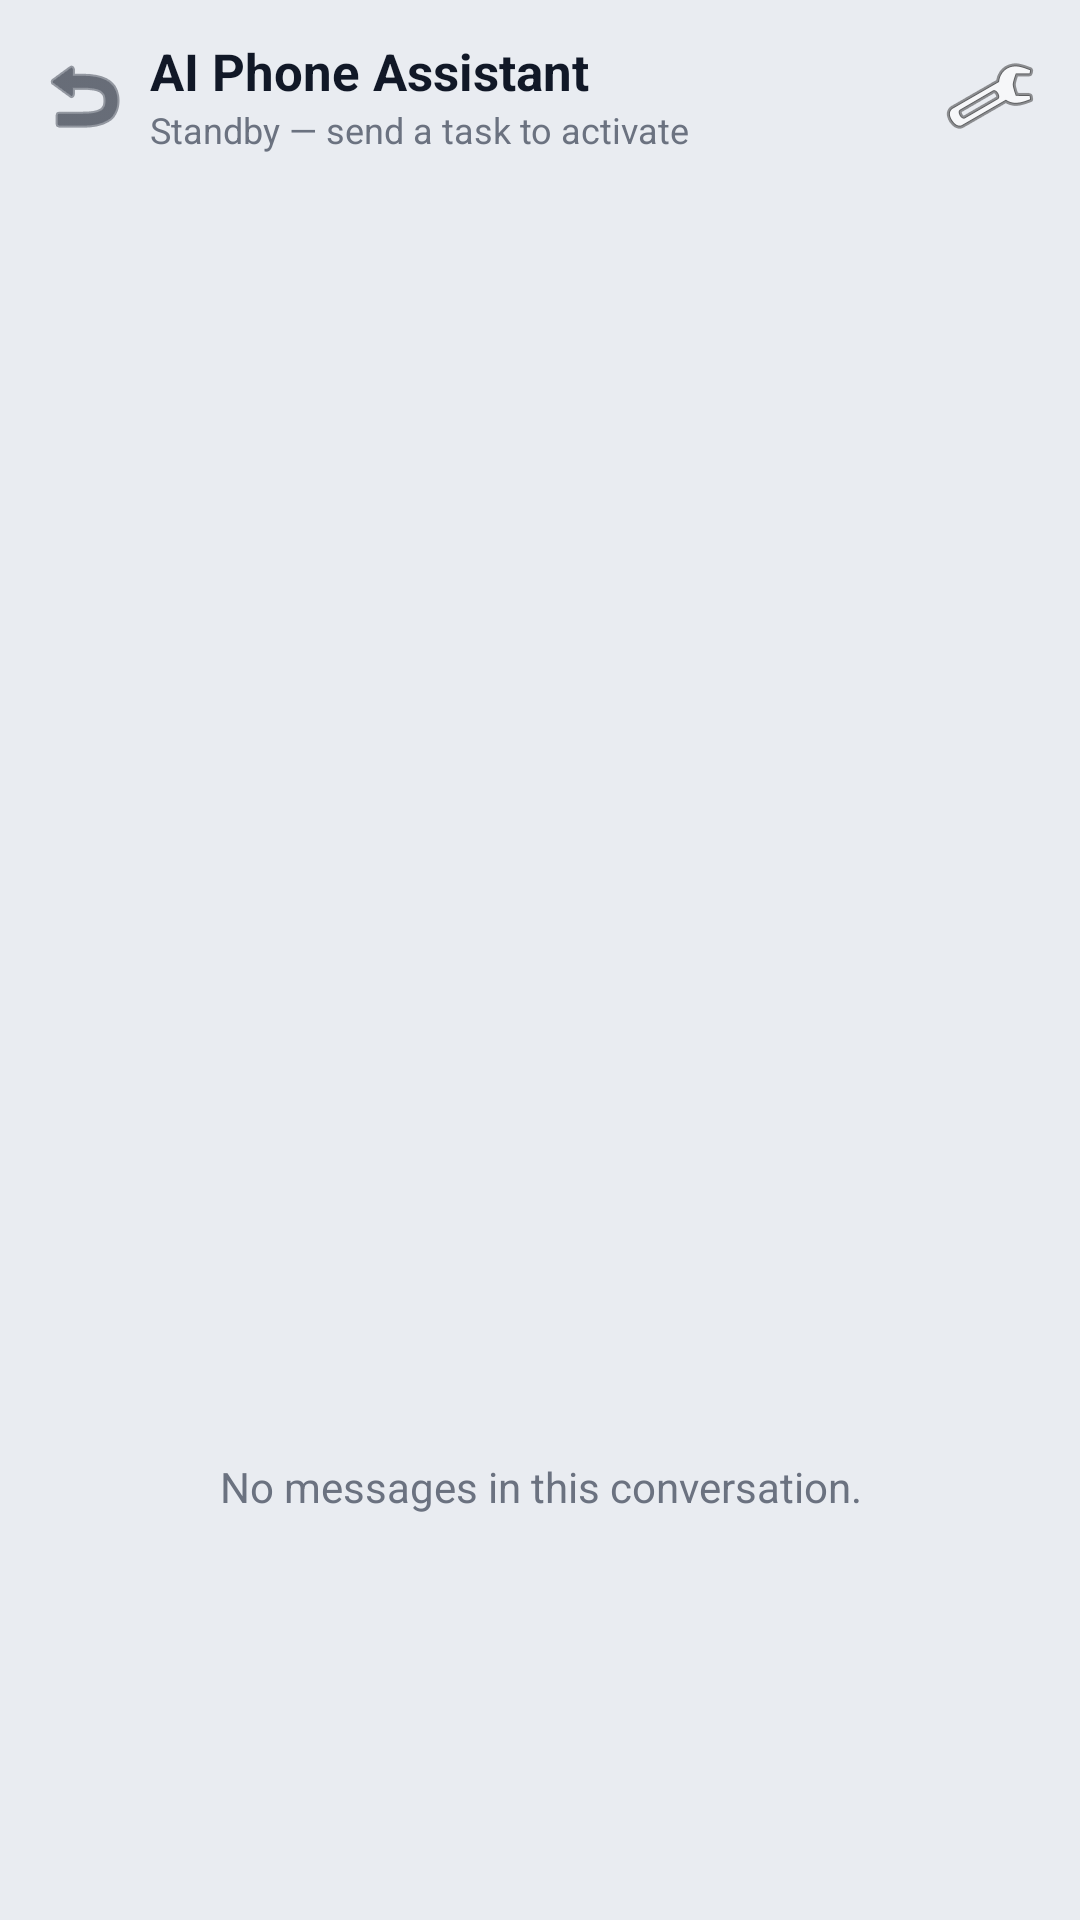

Where to tap for icons on this 1080 x 1920 app screen, as (x,y):
AI Assistant Settings: (990,96)
Back to conversations: (85,96)
